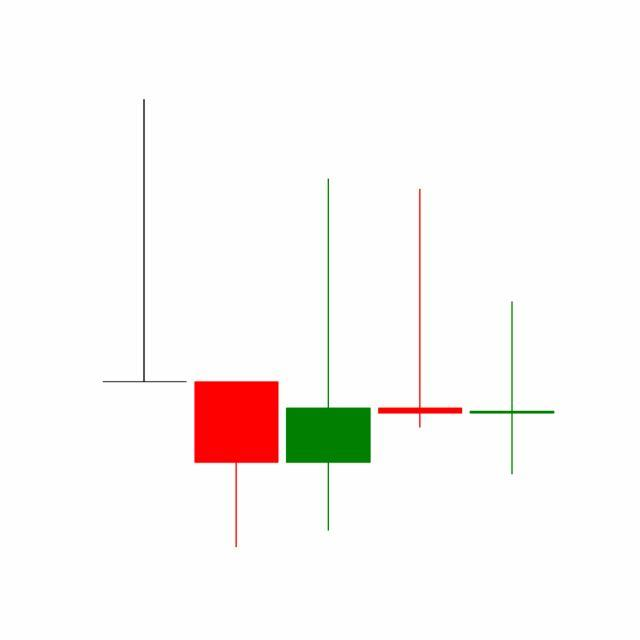Spinning Top: (374, 186, 468, 431)
